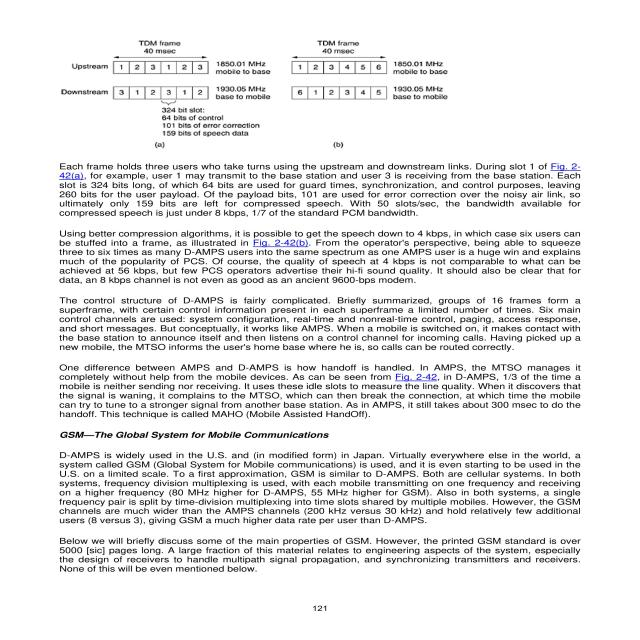diagram: (36, 26, 547, 157)
